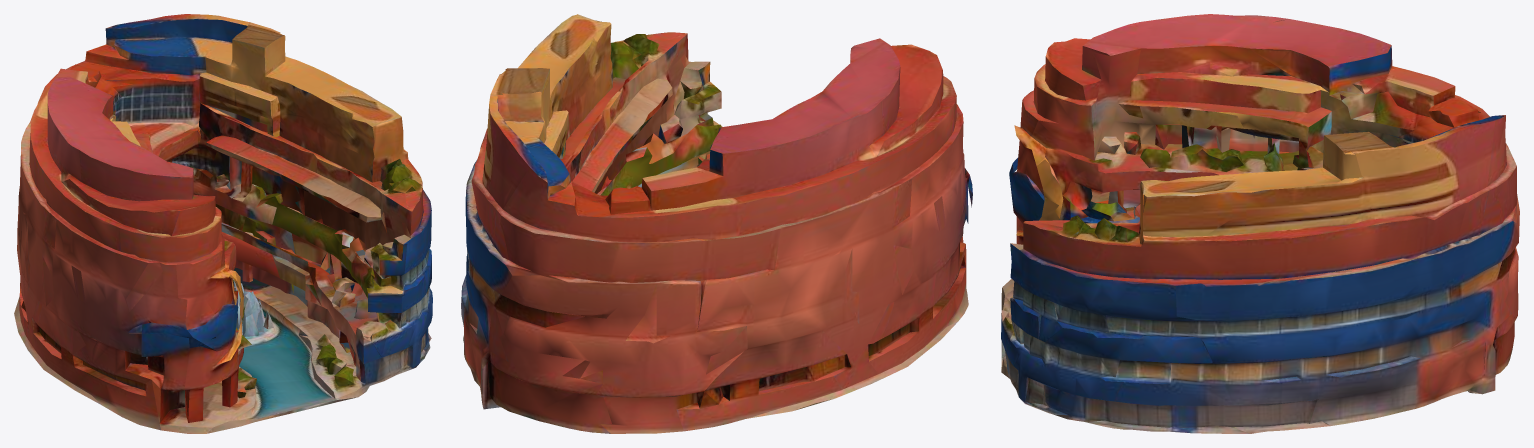
The model's file is canal-city-hakata.glb.
The picture shows the model from 3 angles, left to right: view 1: azimuth 30°, elevation 25°; view 2: azimuth 150°, elevation 25°; view 3: azimuth 270°, elevation 25°; orthographic projection. The views are drawn at different scales.
Visible parts, largest first — view 1: logan-textured.obj; view 2: logan-textured.obj; view 3: logan-textured.obj.
Boxes of the visible parts, x1,y1,x2,y2 form: logan-textured.obj: [14, 14, 432, 433]; logan-textured.obj: [461, 14, 972, 433]; logan-textured.obj: [1001, 14, 1519, 433].
Bounding box in the file's own units: 0.8686 × 0.5673 × 1.
1 material, 1 textured.
